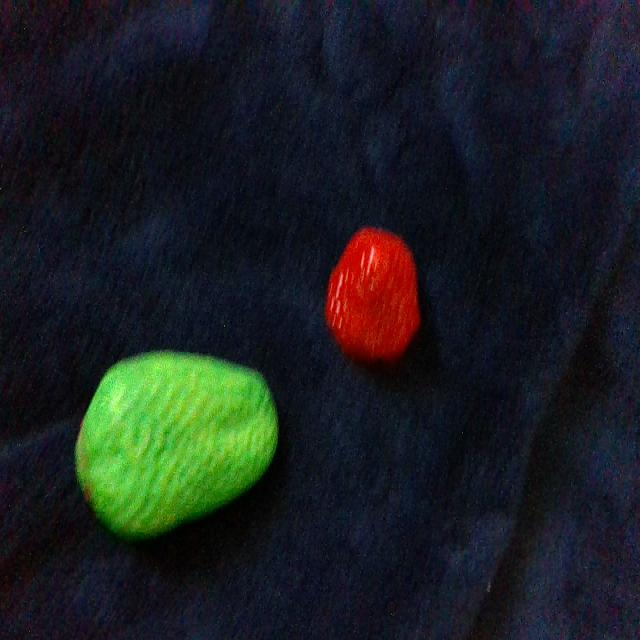chica_roja: (327, 228, 419, 360)
verde: (76, 352, 277, 537)
